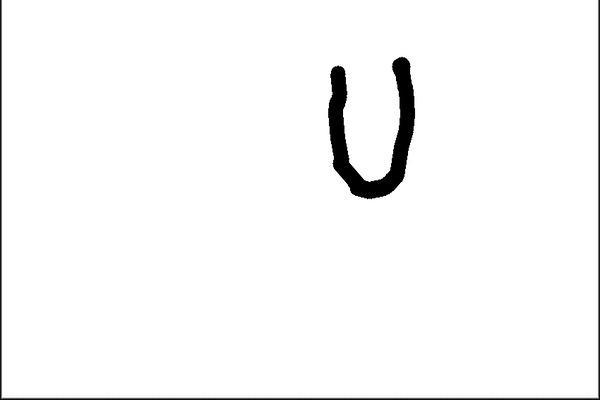U: (309, 51, 428, 194)
